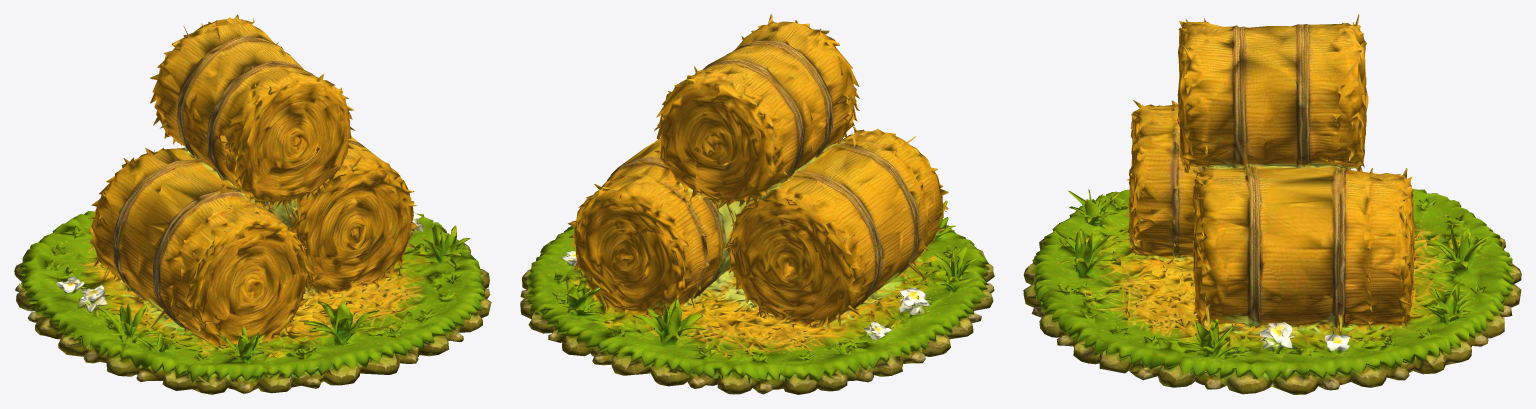
The model's file is Stacked hay bales.glb.
The picture shows the model from 3 angles, left to right: view 1: azimuth 30°, elevation 25°; view 2: azimuth 150°, elevation 25°; view 3: azimuth 270°, elevation 25°; orthographic projection. The views are drawn at different scales.
Bounding box in the file's own units: 1.9 × 1.11 × 1.9.
1 material, 1 textured.
